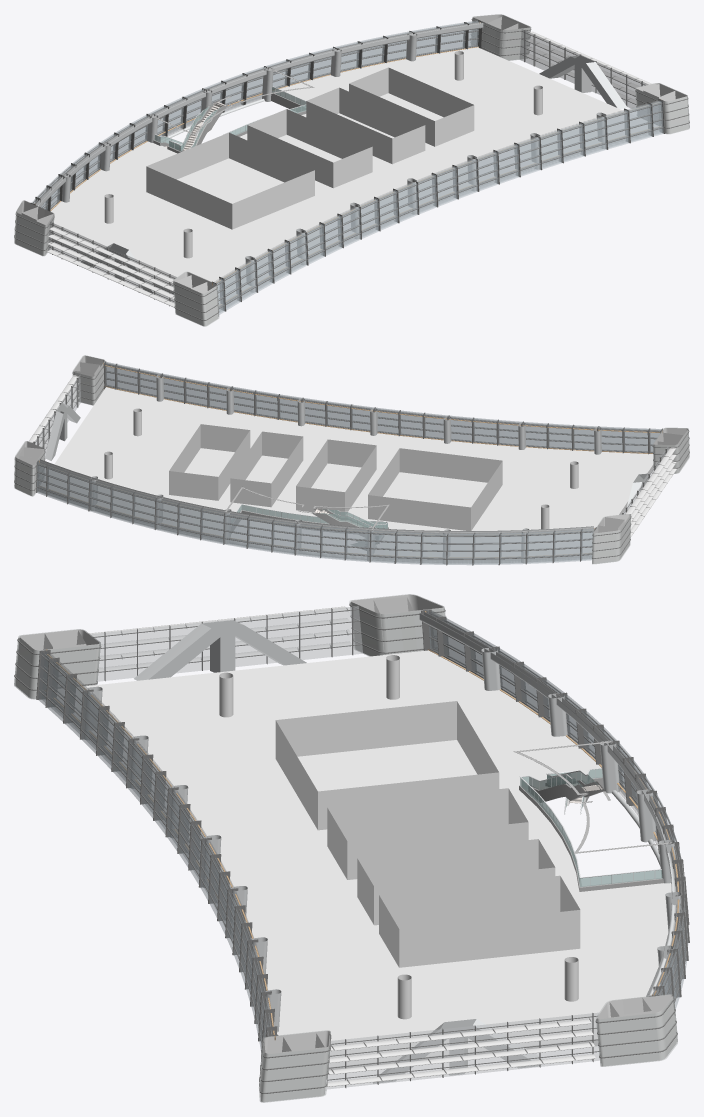
3 views of the same model, one above another, from view 1: azimuth 30°, elevation 25°; view 2: azimuth 150°, elevation 25°; view 3: azimuth 270°, elevation 25° (orthographic). The views are drawn at different scales.
Parts seen in each view (by area): view 1: floor.060; view 2: floor.060; view 3: floor.060.
Part boxes in pixels (x1=…): floor.060: x1=14, y1=14, x2=689, y2=326; floor.060: x1=14, y1=355, x2=689, y2=565; floor.060: x1=14, y1=594, x2=689, y2=1102.
Size of the model in its own units: 81.66 by 4.75 by 50.57.
Materials: 18 (1 with a texture image).
